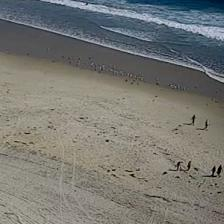surfer: (85, 2, 88, 5)
